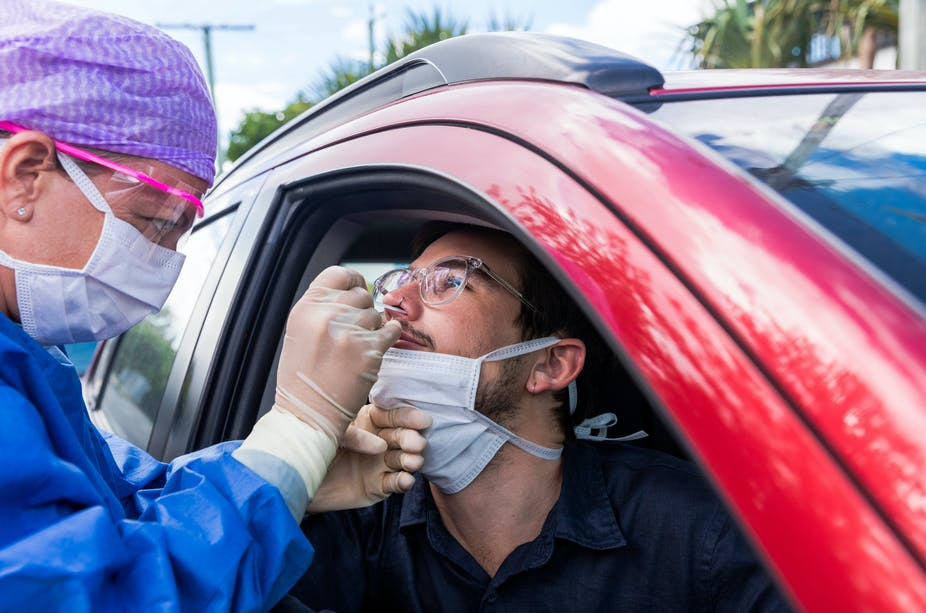Gloves: (240, 256, 401, 508), (246, 398, 434, 517)
mask_weared_incorrect: (375, 253, 511, 496)
with_mask: (23, 177, 191, 350)
